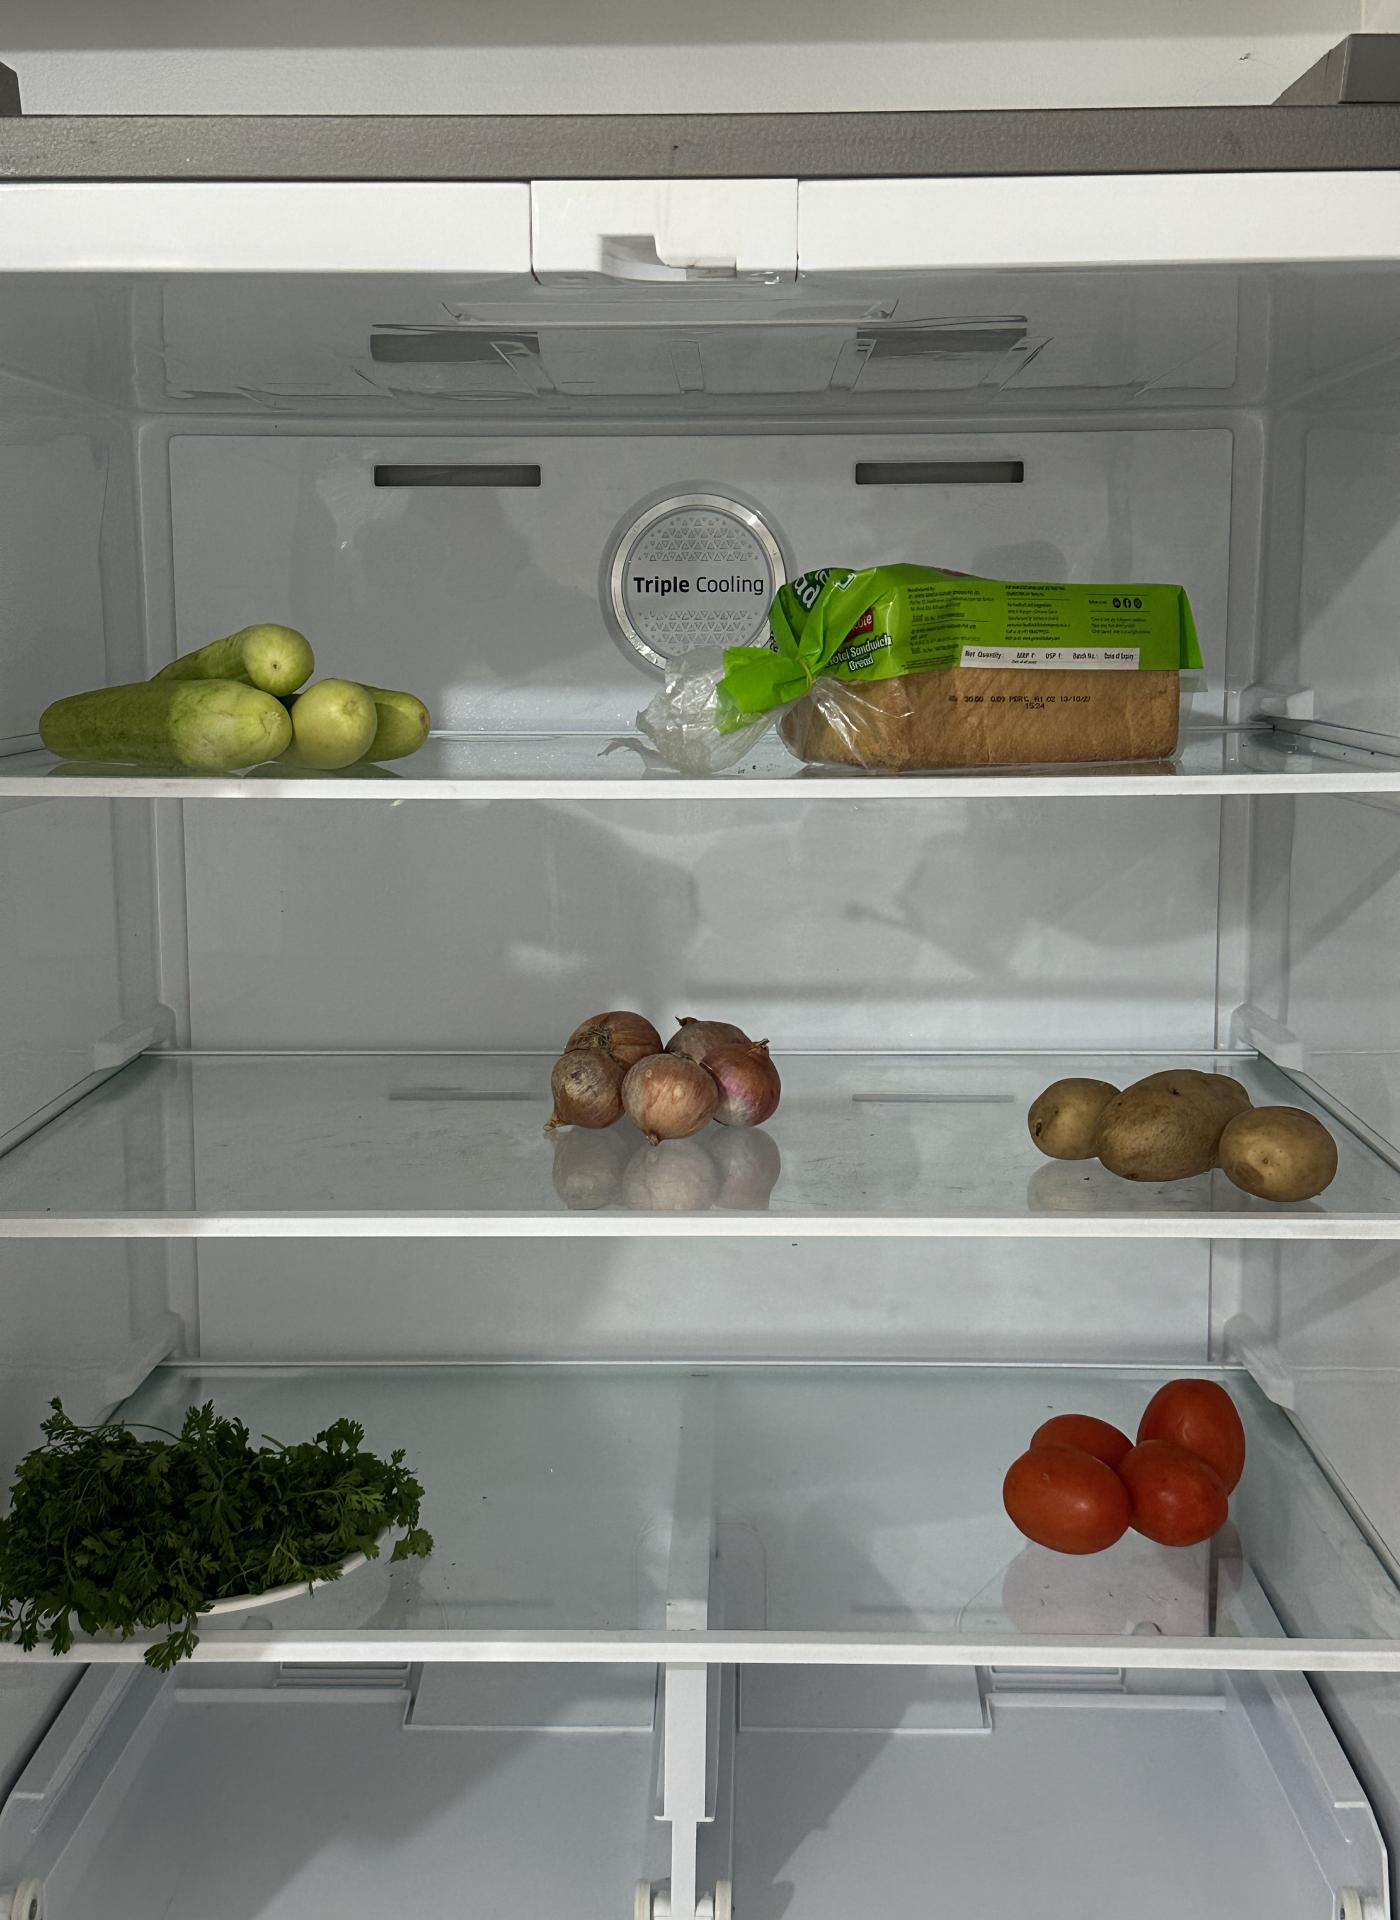bread: (766, 540, 1208, 769)
coriander: (45, 1404, 435, 1635)
cucumber: (37, 617, 429, 775)
onion: (550, 1003, 786, 1142)
potato: (1011, 1057, 1345, 1210)
tomato: (991, 1373, 1260, 1549)
